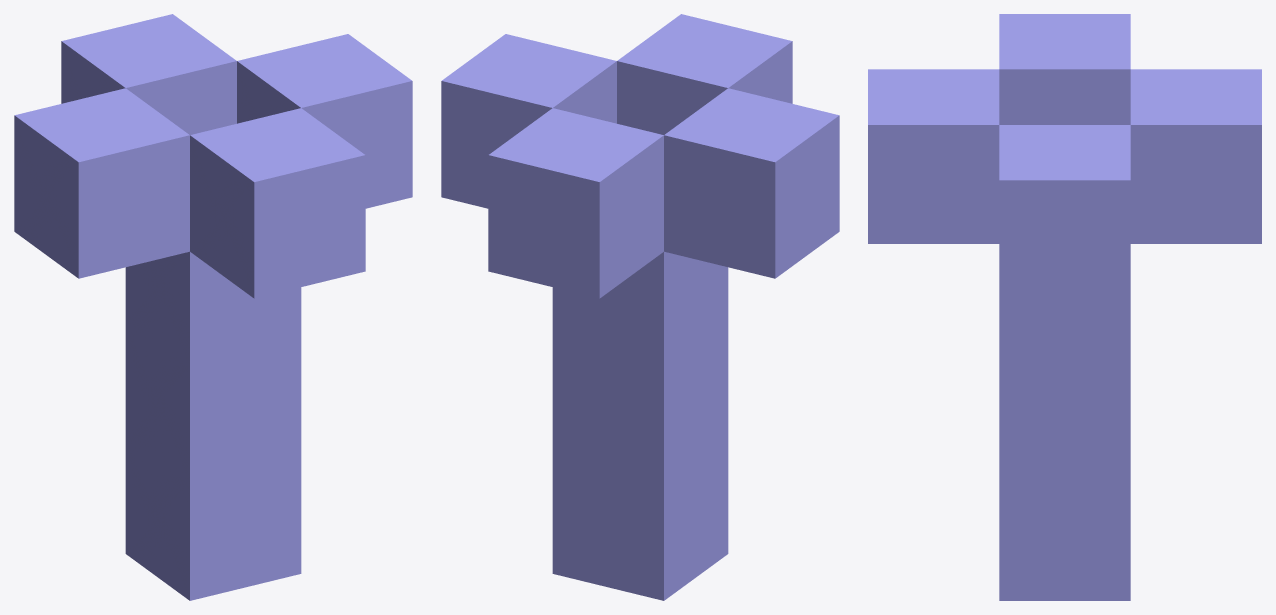
The model's file is gm_joystick_0.cube.obj.
The picture shows the model from 3 angles, left to right: view 1: azimuth 30°, elevation 25°; view 2: azimuth 150°, elevation 25°; view 3: azimuth 270°, elevation 25°; orthographic projection. The views are drawn at different scales.
Size of the model in its own units: 3 by 4 by 3.
Materials: 1 (1 with a texture image).
